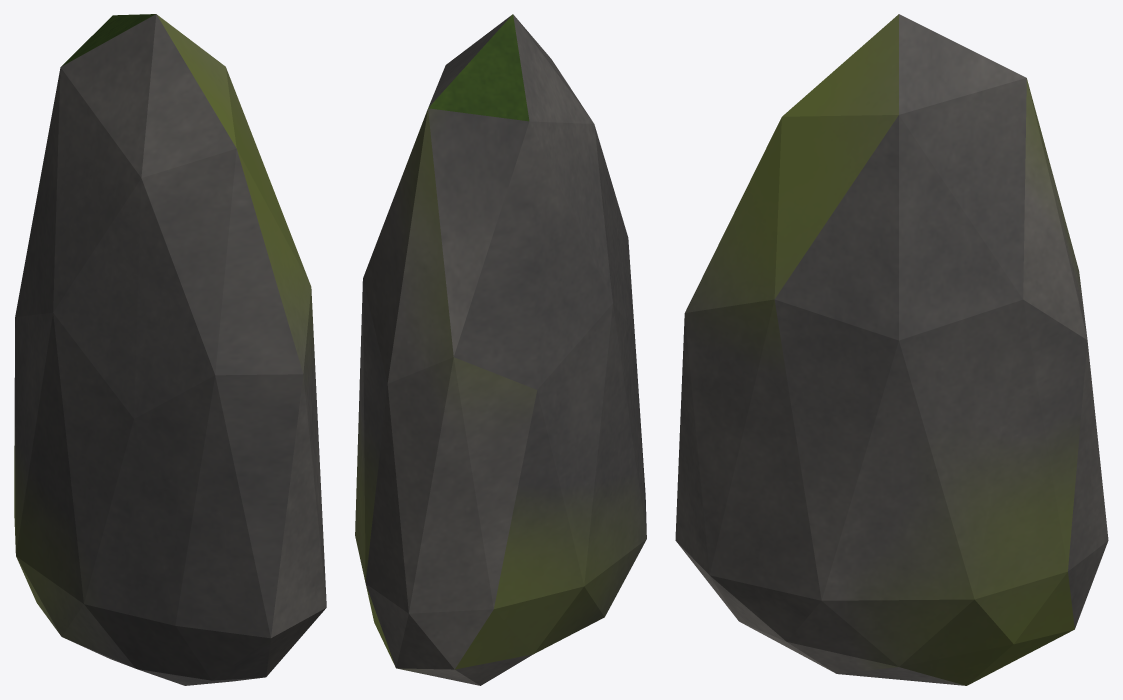
File: standing_stone.glb
The picture shows the model from 3 angles, left to right: view 1: azimuth 30°, elevation 25°; view 2: azimuth 150°, elevation 25°; view 3: azimuth 270°, elevation 25°; orthographic projection. The views are drawn at different scales.
Parts seen in each view (by area): view 1: stone_12; view 2: stone_12; view 3: stone_12.
Boxes of the visible parts, x1,y1,x2,y2 form: stone_12: [14, 14, 326, 685]; stone_12: [355, 14, 646, 685]; stone_12: [675, 14, 1108, 685].
Size of the model in its own units: 0.651 by 1.76 by 1.07.
2 materials, 2 textured.
